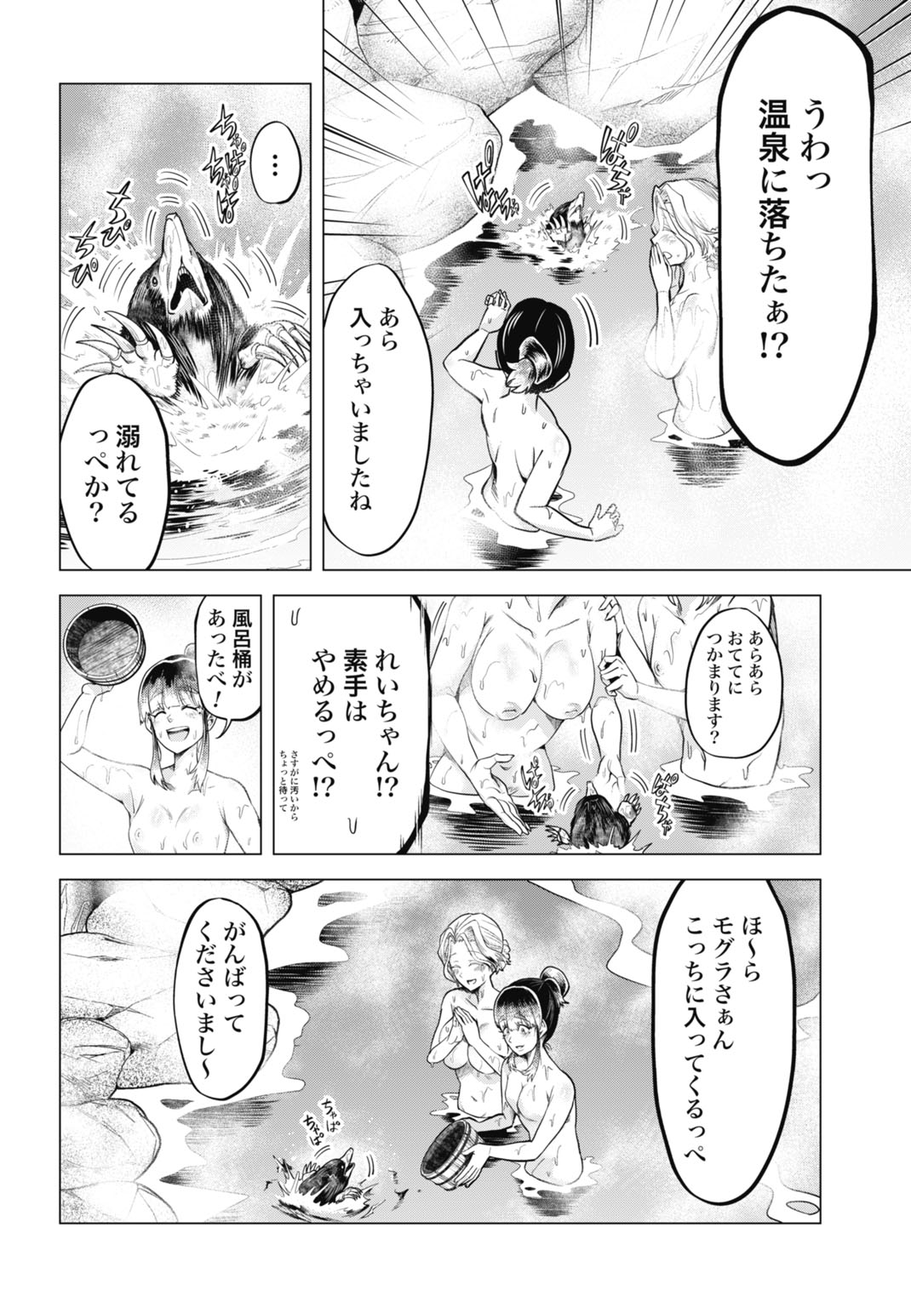bubbles: (713, 5, 885, 479), (645, 882, 806, 1214), (271, 596, 444, 853), (324, 259, 427, 562), (166, 895, 281, 1117), (59, 364, 175, 574), (682, 605, 792, 762), (191, 596, 263, 747), (247, 117, 306, 210)
